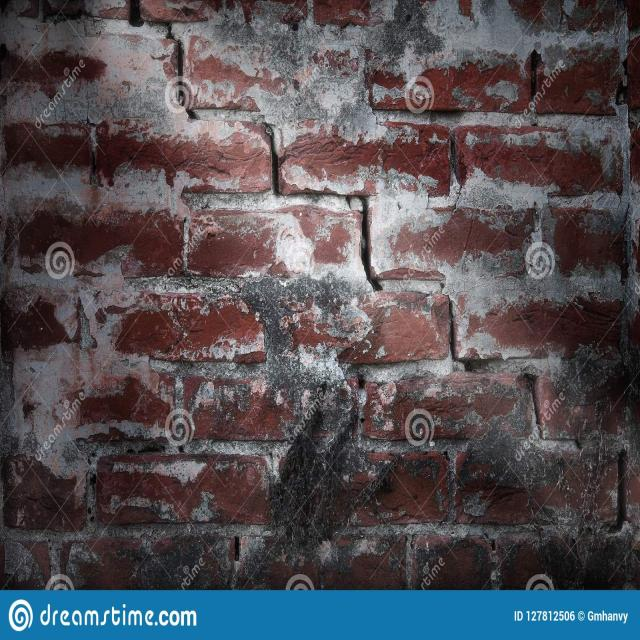Crack: (126, 0, 631, 540)
